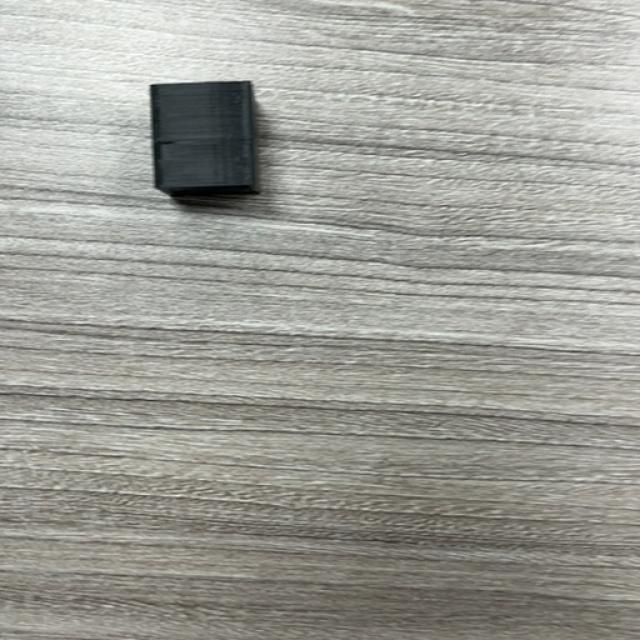Negro: (150, 81, 260, 200)
